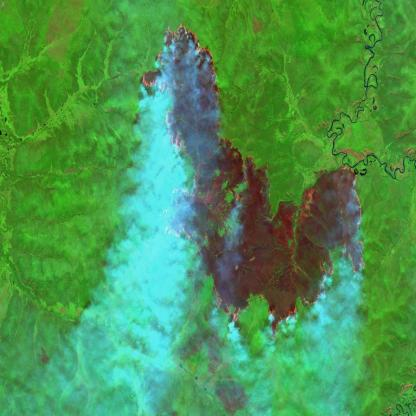fire: (140, 17, 368, 342)
